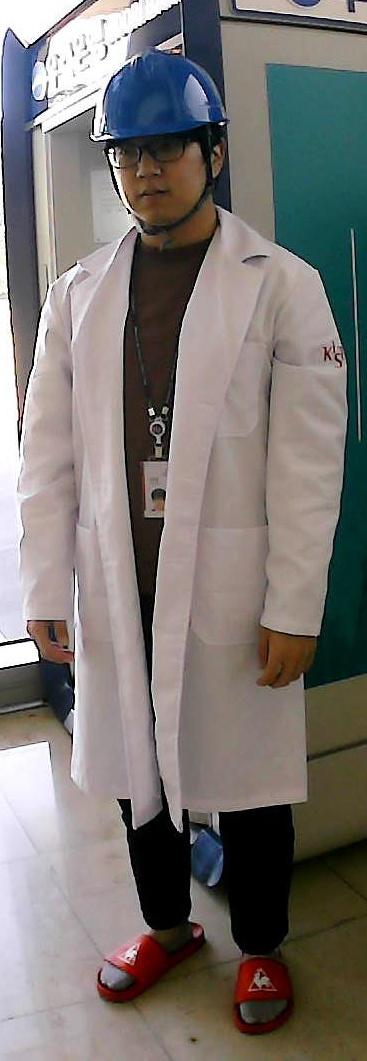lab_coat: (66, 246, 266, 804)
